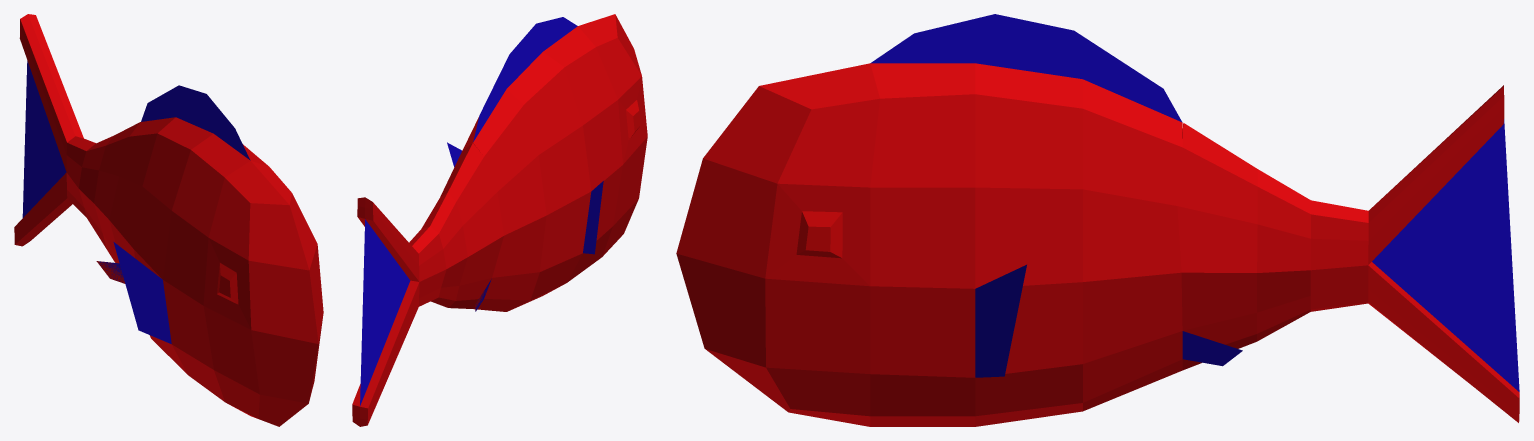
File: UnradiatedFishOne.fbx
The picture shows the model from 3 angles, left to right: view 1: azimuth 30°, elevation 25°; view 2: azimuth 150°, elevation 25°; view 3: azimuth 270°, elevation 25°; orthographic projection. The views are drawn at different scales.
Parts seen in each view (by area): view 1: Cube; view 2: Cube; view 3: Cube.
Boxes of the visible parts, x1=… form: Cube: x1=14, y1=14, x2=323, y2=426; Cube: x1=352, y1=14, x2=647, y2=426; Cube: x1=676, y1=14, x2=1519, y2=426.
Size of the model in its own units: 128 by 217 by 402.
